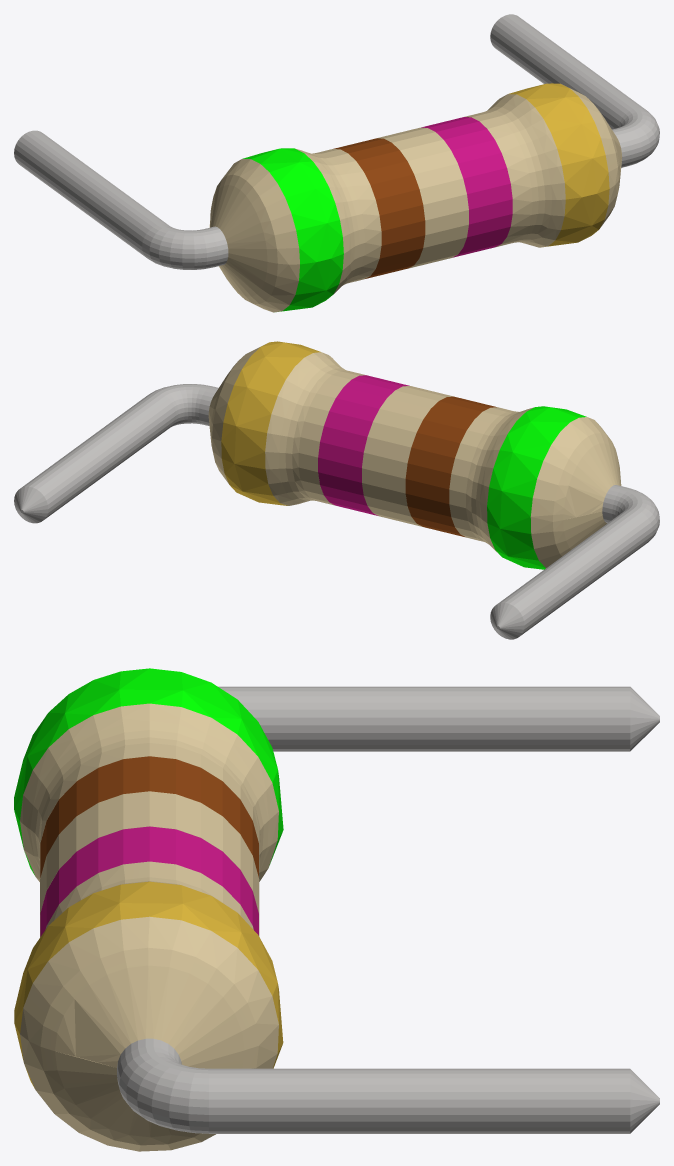
Rendered from Yageo CFR-25 Resistor Axial P7.62mm 510,0 MOhm.obj.
3 views of the same model, one above another, from view 1: azimuth 30°, elevation 25°; view 2: azimuth 150°, elevation 25°; view 3: azimuth 270°, elevation 25° (orthographic). The views are drawn at different scales.
Parts seen in each view (by area): view 1: Yageo_CFR-25_Resistor_Axial_P7.62mm_510,0_MOhm; view 2: Yageo_CFR-25_Resistor_Axial_P7.62mm_510,0_MOhm; view 3: Yageo_CFR-25_Resistor_Axial_P7.62mm_510,0_MOhm.
Part boxes in pixels (x1,y1,x2,y2): Yageo_CFR-25_Resistor_Axial_P7.62mm_510,0_MOhm: (14,14,659,312); Yageo_CFR-25_Resistor_Axial_P7.62mm_510,0_MOhm: (14,341,659,639); Yageo_CFR-25_Resistor_Axial_P7.62mm_510,0_MOhm: (14,668,659,1151).
Size of the model in its own units: 0.0104 by 0.00286 by 0.0069.
